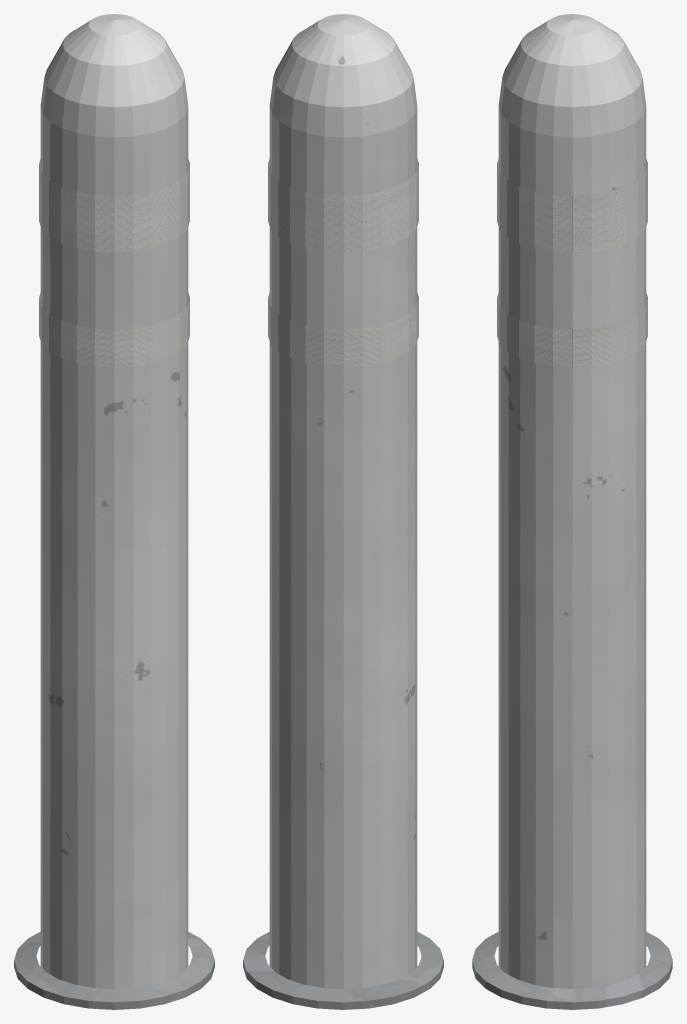
File: Bollard.obj
3 renders of one model, left to right at view 1: azimuth 30°, elevation 25°; view 2: azimuth 150°, elevation 25°; view 3: azimuth 270°, elevation 25°, orthographic.
Parts seen in each view (by area): view 1: PaintAnthracite, Signs, Galvanised; view 2: PaintAnthracite, Signs, Galvanised; view 3: PaintAnthracite, Signs, Galvanised.
Boxes of the visible parts, x1,y1,x2,y2 form: PaintAnthracite: [40, 14, 188, 988]; Signs: [39, 159, 189, 367]; Galvanised: [14, 931, 214, 1009]; PaintAnthracite: [269, 14, 417, 988]; Signs: [268, 159, 418, 367]; Galvanised: [243, 931, 443, 1009]; PaintAnthracite: [498, 14, 646, 988]; Signs: [497, 159, 647, 367]; Galvanised: [472, 931, 672, 1009].
Bounding box in the file's own units: 0.19 × 0.99 × 0.19.
3 materials, 3 textured.
